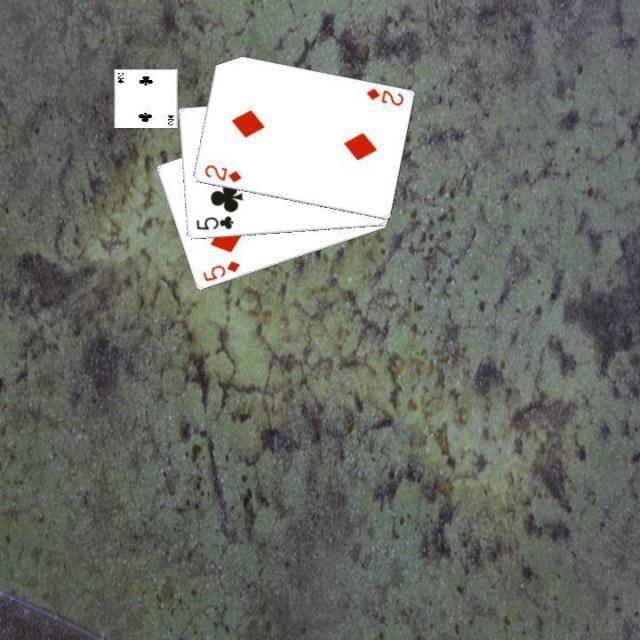2D: (362, 84, 406, 108), (200, 161, 243, 184)
5C: (192, 212, 235, 232)
5D: (199, 256, 242, 284)
